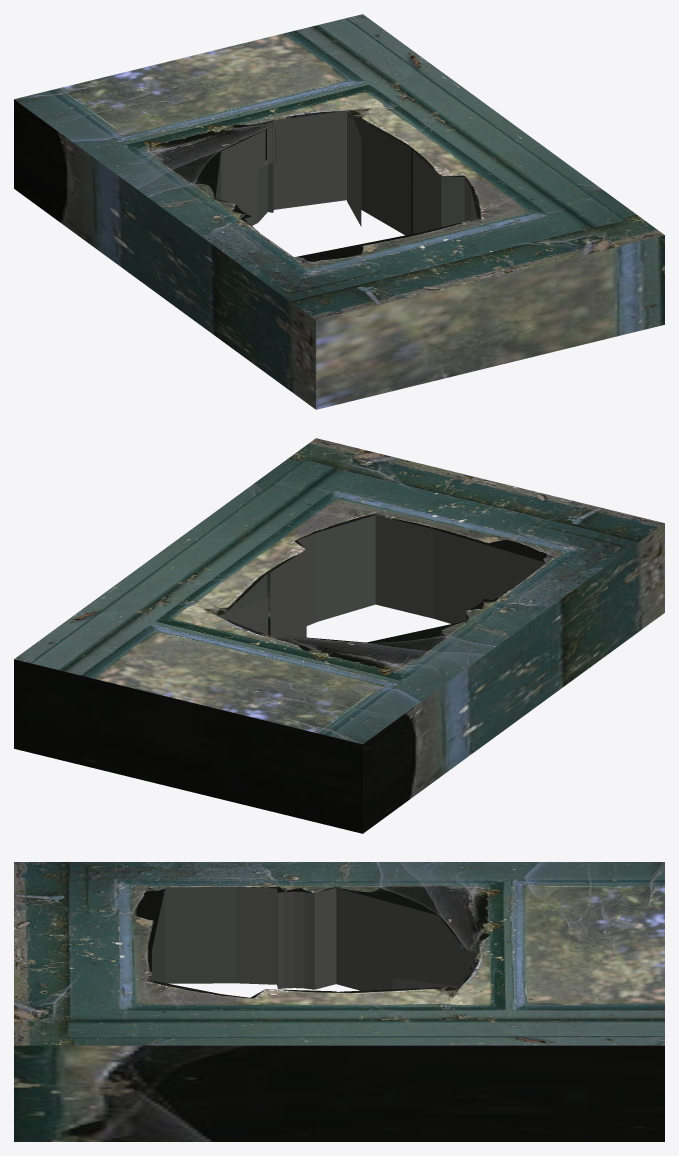
File: win.dae
3 renders of one model, top to bottom at view 1: azimuth 30°, elevation 25°; view 2: azimuth 150°, elevation 25°; view 3: azimuth 270°, elevation 25°, orthographic. The views are drawn at different scales.
Parts seen in each view (by area): view 1: Cube; view 2: Cube; view 3: Cube.
Boxes of the visible parts, x1,y1,x2,y2 form: Cube: (14, 14, 664, 409); Cube: (14, 438, 664, 833); Cube: (14, 862, 664, 1141).
Bounding box in the file's own units: 8.16 × 12.24 × 2.
